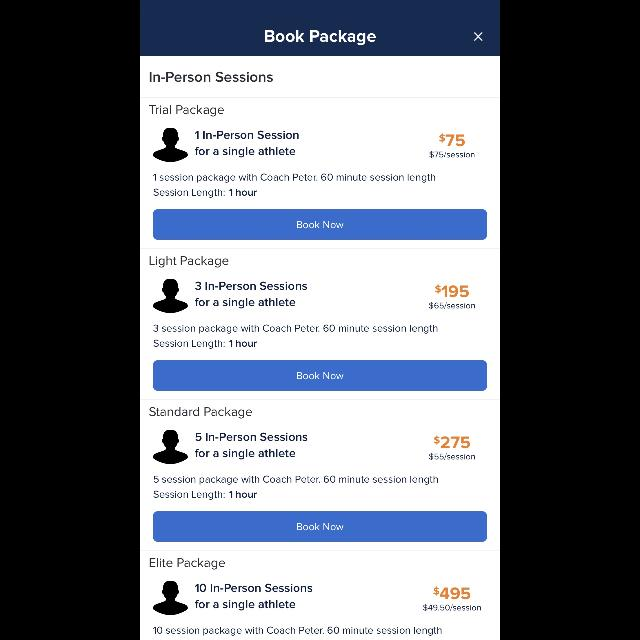icon: (154, 580, 188, 616), (154, 128, 188, 162), (154, 279, 188, 313), (154, 430, 188, 464), (473, 32, 482, 42)
text: (153, 325, 437, 349), (154, 476, 438, 500), (153, 174, 435, 198), (195, 432, 307, 460), (195, 584, 312, 610), (195, 282, 307, 308), (154, 626, 442, 636), (266, 30, 376, 46), (150, 72, 274, 82), (195, 146, 295, 158), (150, 408, 252, 418), (150, 256, 228, 268), (150, 558, 226, 570), (195, 131, 298, 139), (150, 105, 224, 116), (434, 586, 471, 600), (423, 604, 481, 612), (436, 284, 468, 298), (434, 436, 470, 448), (429, 302, 475, 310), (429, 453, 475, 461), (430, 151, 474, 159), (439, 134, 465, 146)
textbutton: (153, 512, 487, 542), (153, 361, 487, 391), (154, 210, 486, 240)
